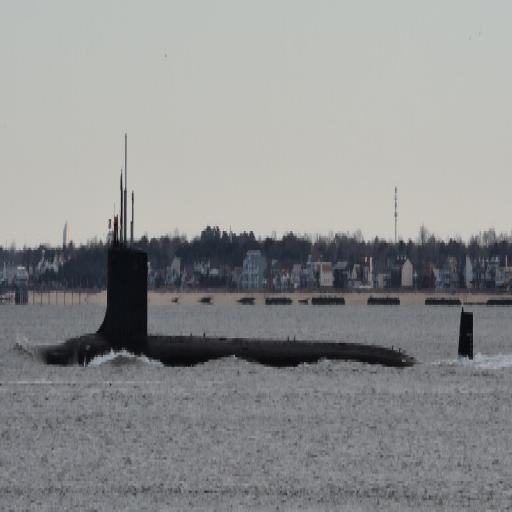submarine: (37, 137, 473, 380)
